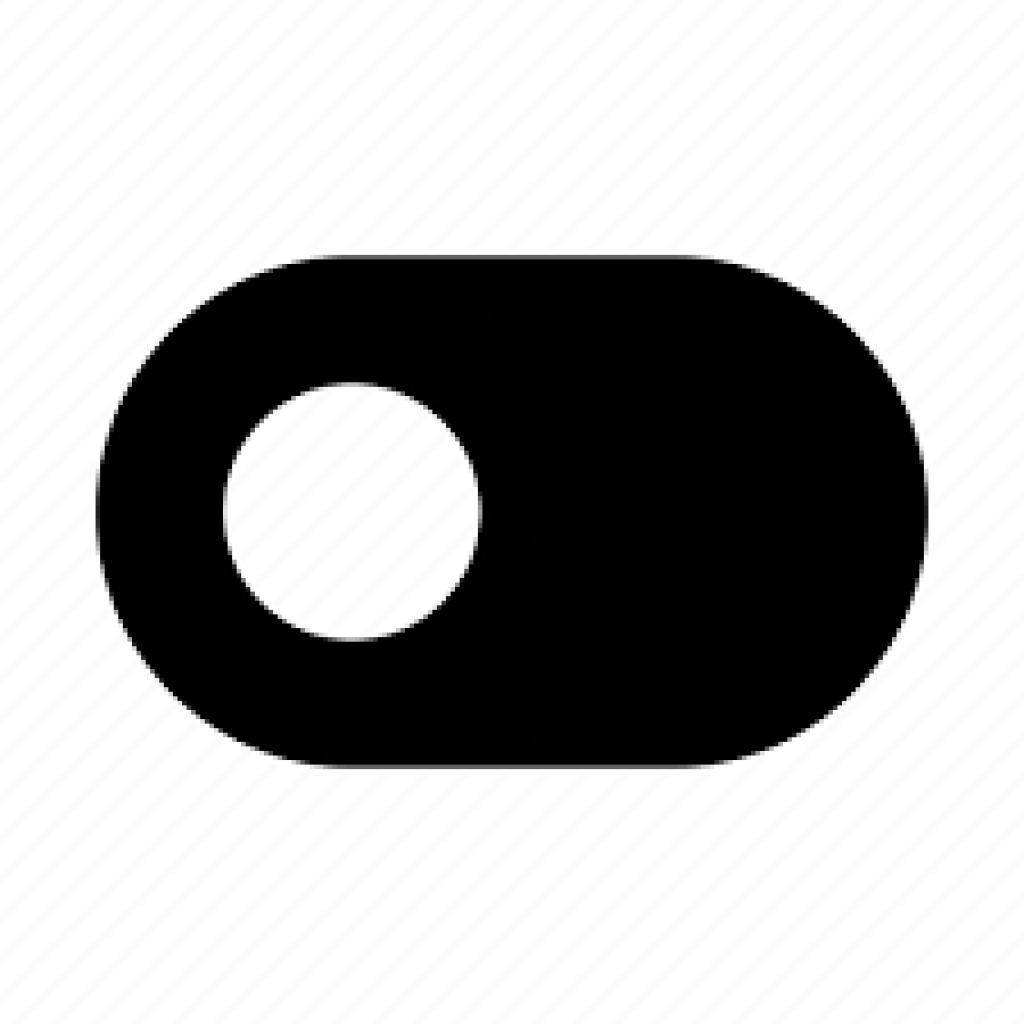switch: (94, 249, 926, 768)
